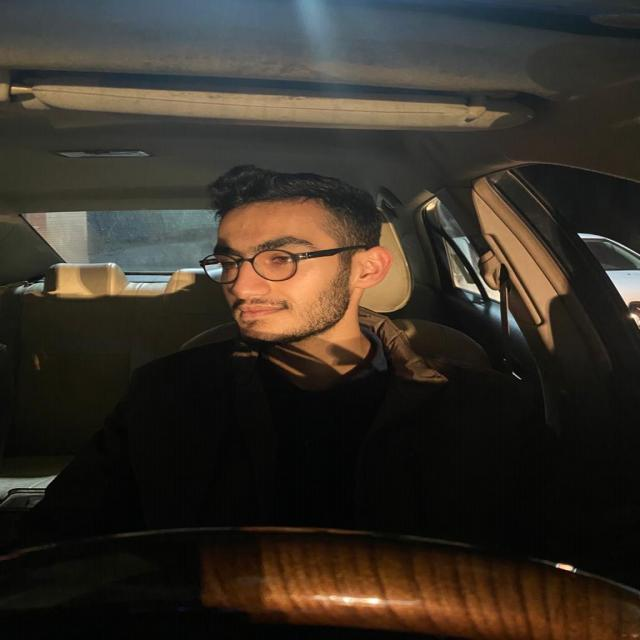LeftRight: (197, 173, 396, 361)
